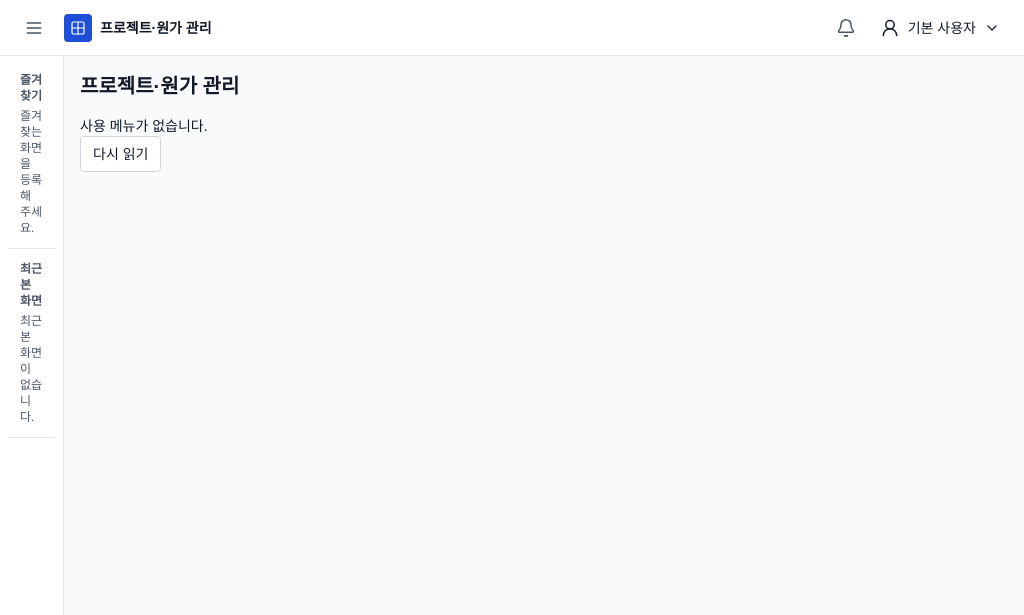
공유 업무 자리 › 메뉴 빈 목록은 재조회 동작을 제공한다
Expected: the text "사용 메뉴가 없습니다." is shown, top-left (80, 118), bottom-right (208, 134)
Click the button "다시 읽기": [121, 154] box top-left (80, 136), bottom-right (161, 172)
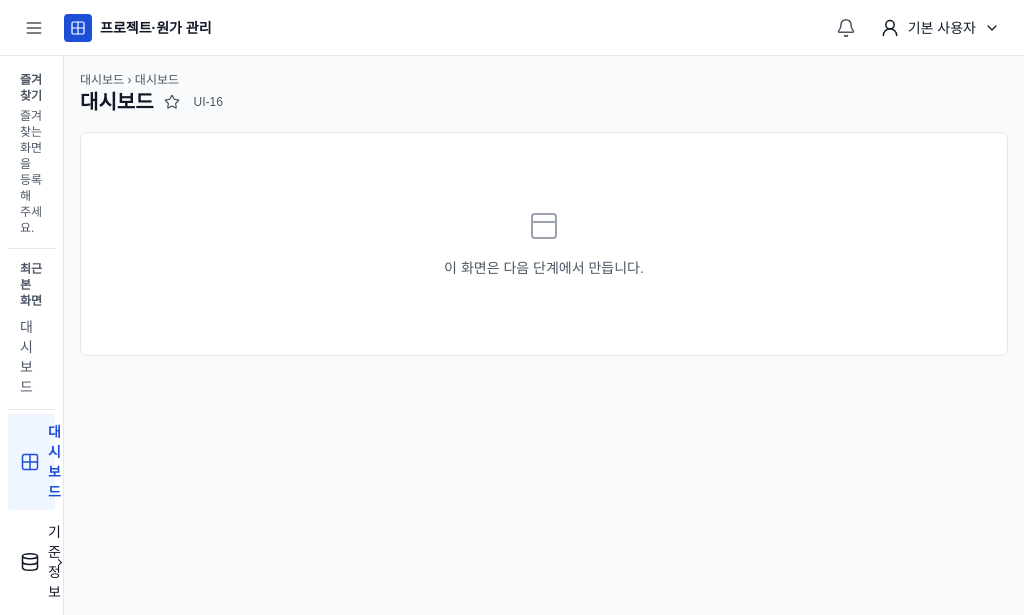
Expected: the heading "대시보드" is shown, top-left (80, 88), bottom-right (154, 116)
